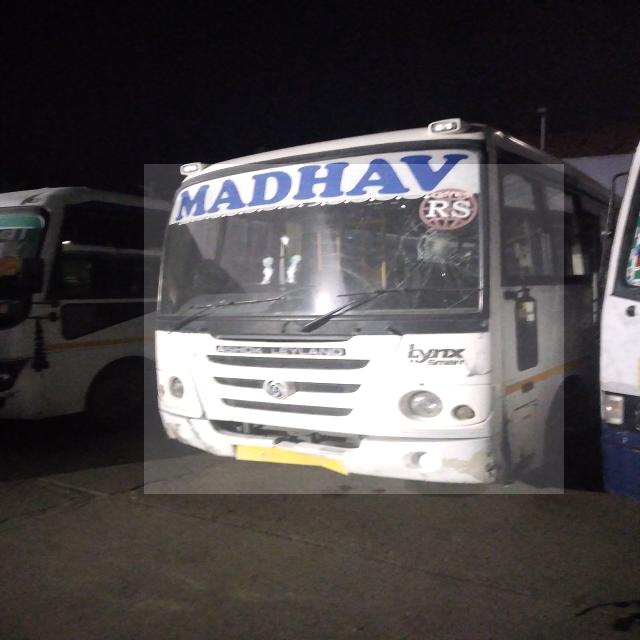Bus: (144, 165, 564, 494)
